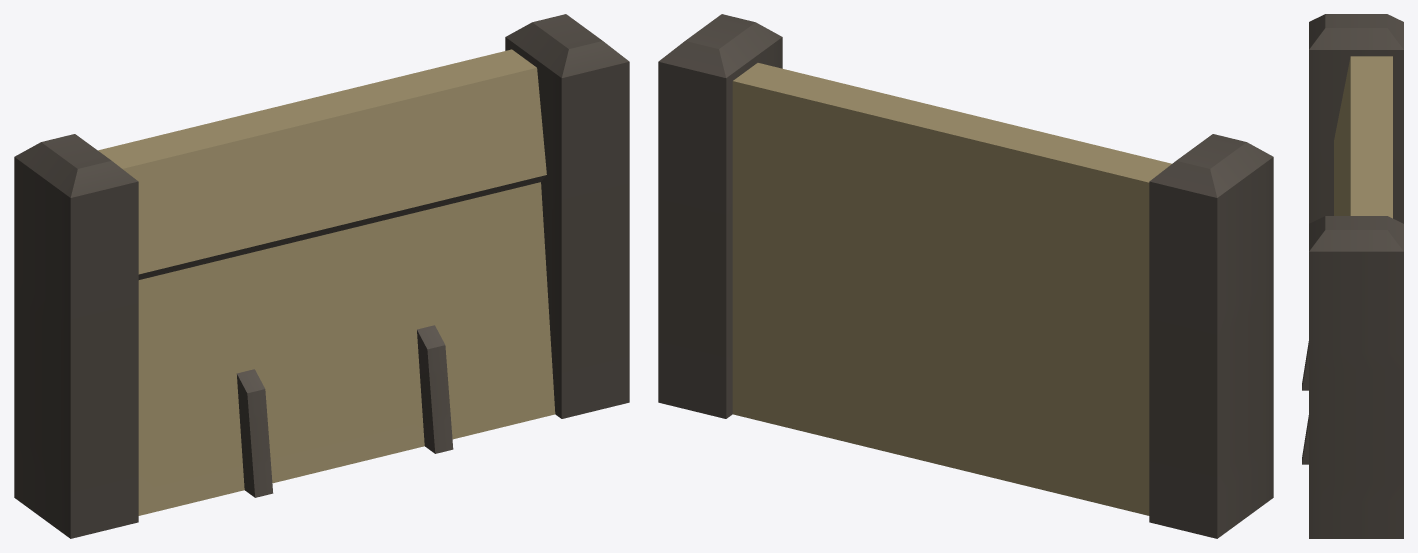
Rendered from RobotWall.fbx.
3 views of the same model, side by side, from view 1: azimuth 30°, elevation 25°; view 2: azimuth 150°, elevation 25°; view 3: azimuth 270°, elevation 25° (orthographic). The views are drawn at different scales.
Parts seen in each view (by area): view 1: wall; view 2: wall; view 3: wall.
Boxes of the visible parts, x1,y1,x2,y2 form: wall: (14,14,629,538); wall: (658,14,1273,538); wall: (1302,14,1403,538).
Size of the model in its own units: 4.3 by 2.64 by 0.8056.
